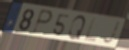5: (52, 13, 71, 37)
8: (19, 9, 35, 32)
J: (101, 20, 122, 46)
L: (83, 16, 98, 43)
P: (30, 8, 54, 36)
Q: (67, 15, 87, 41)
